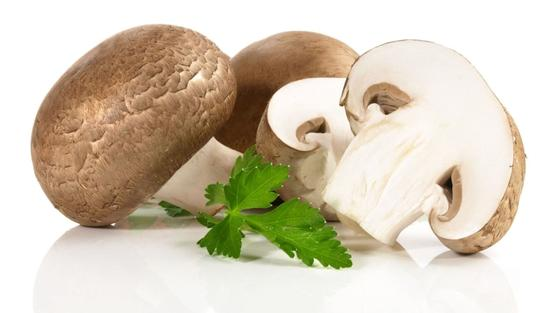champignon: (29, 20, 260, 227), (332, 36, 527, 256)
